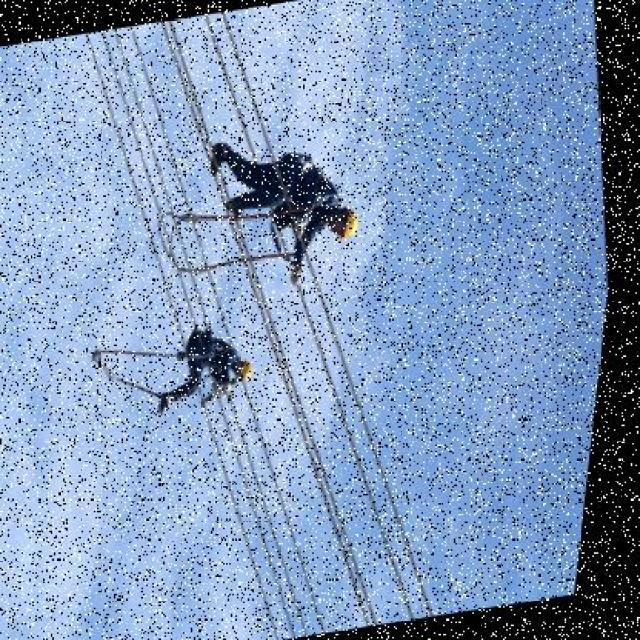helmet: (331, 202, 365, 245)
